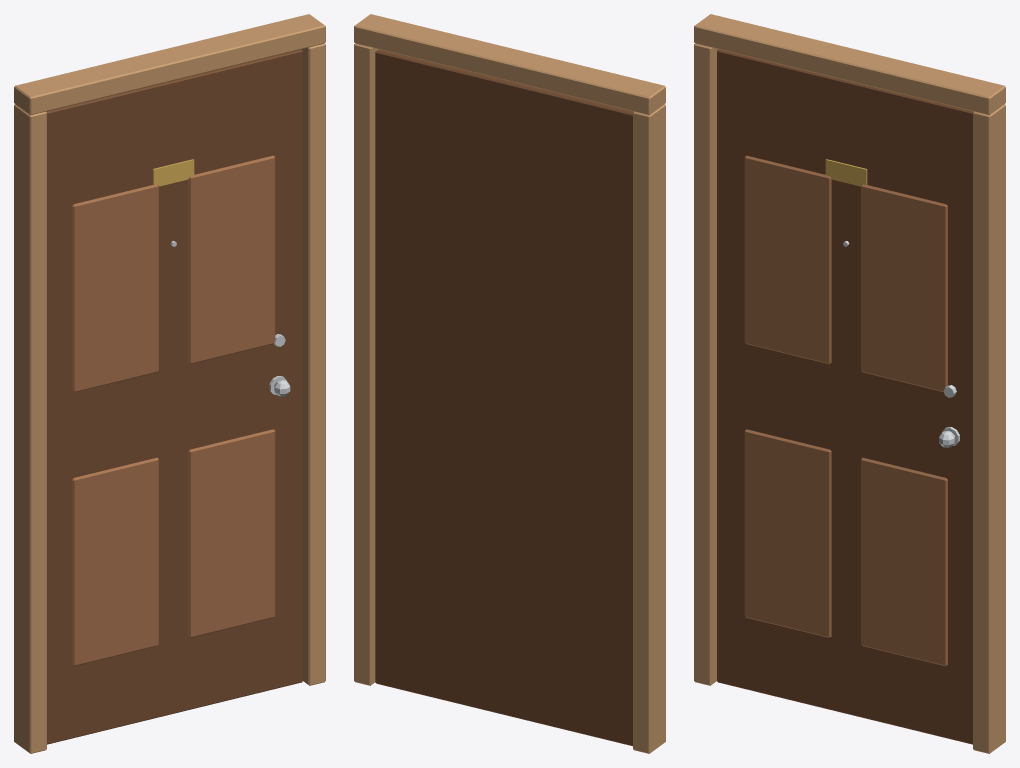
File: condo_door.glb
3 views of the same model, side by side, from view 1: azimuth 30°, elevation 25°; view 2: azimuth 150°, elevation 25°; view 3: azimuth 330°, elevation 25° (orthographic).
Parts seen in each view (by area): view 1: CondoDoor; view 2: CondoDoor; view 3: CondoDoor.
Boxes of the visible parts, <box> form: CondoDoor: <box>14,14,325,753</box>; CondoDoor: <box>354,14,665,753</box>; CondoDoor: <box>694,14,1005,753</box>.
Bounding box in the file's own units: 1.02 × 2.16 × 0.1197.
